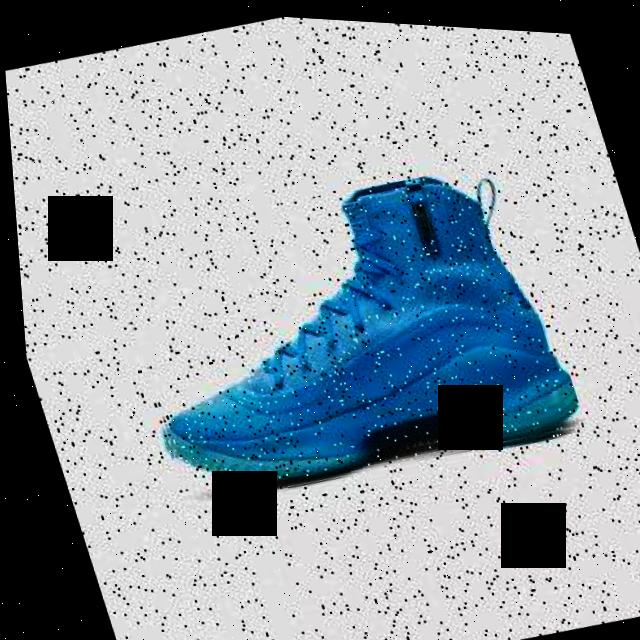shoe: (90, 136, 587, 526)
